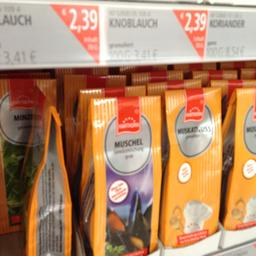spices: (78, 94, 161, 255), (161, 86, 222, 249), (17, 84, 74, 254)
